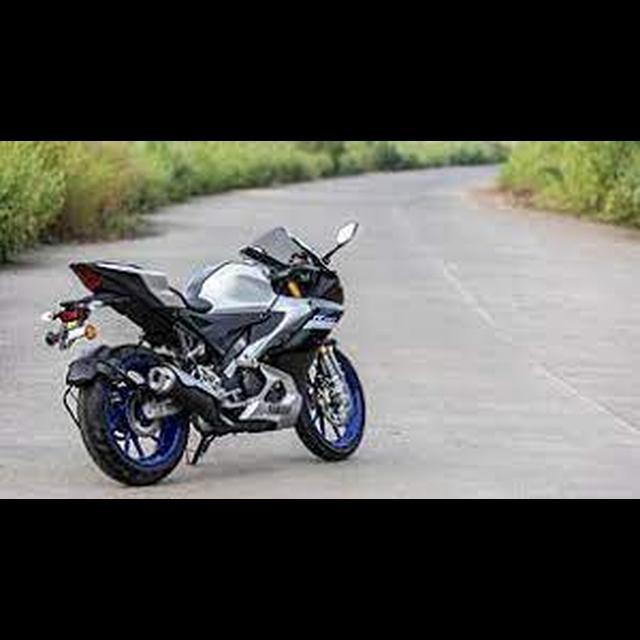motorcycle: (37, 217, 370, 490)
